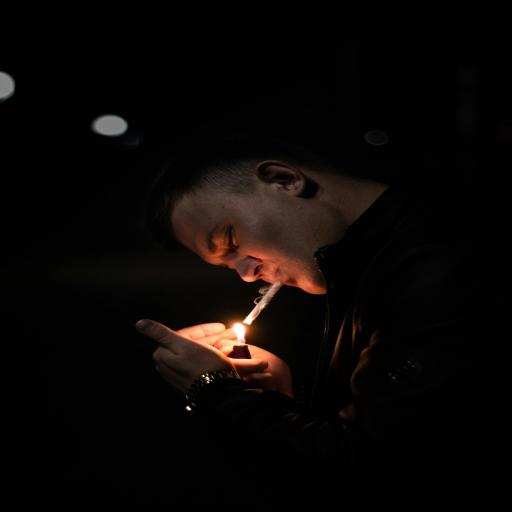membakar rokok: (154, 227, 327, 373)
